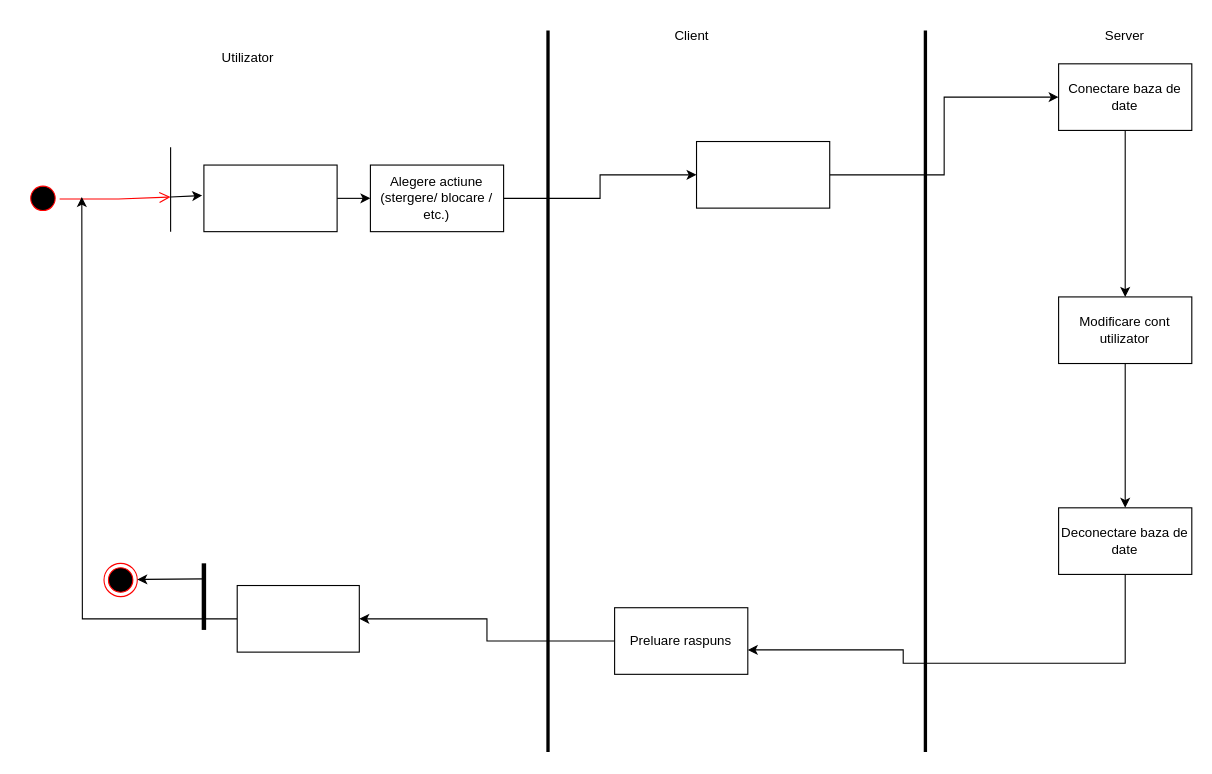
Image size: 1212x774. Some labels were removed from this diagram. Here are the shapes that lost their labels. From the top down, the centre of each, then its label:
At point (762, 174): "Formare cerere modificare proprietati utilizator selectat".
At point (270, 198): "Selectare utilizator".
At point (297, 618): "Vizualizare rezultat".
